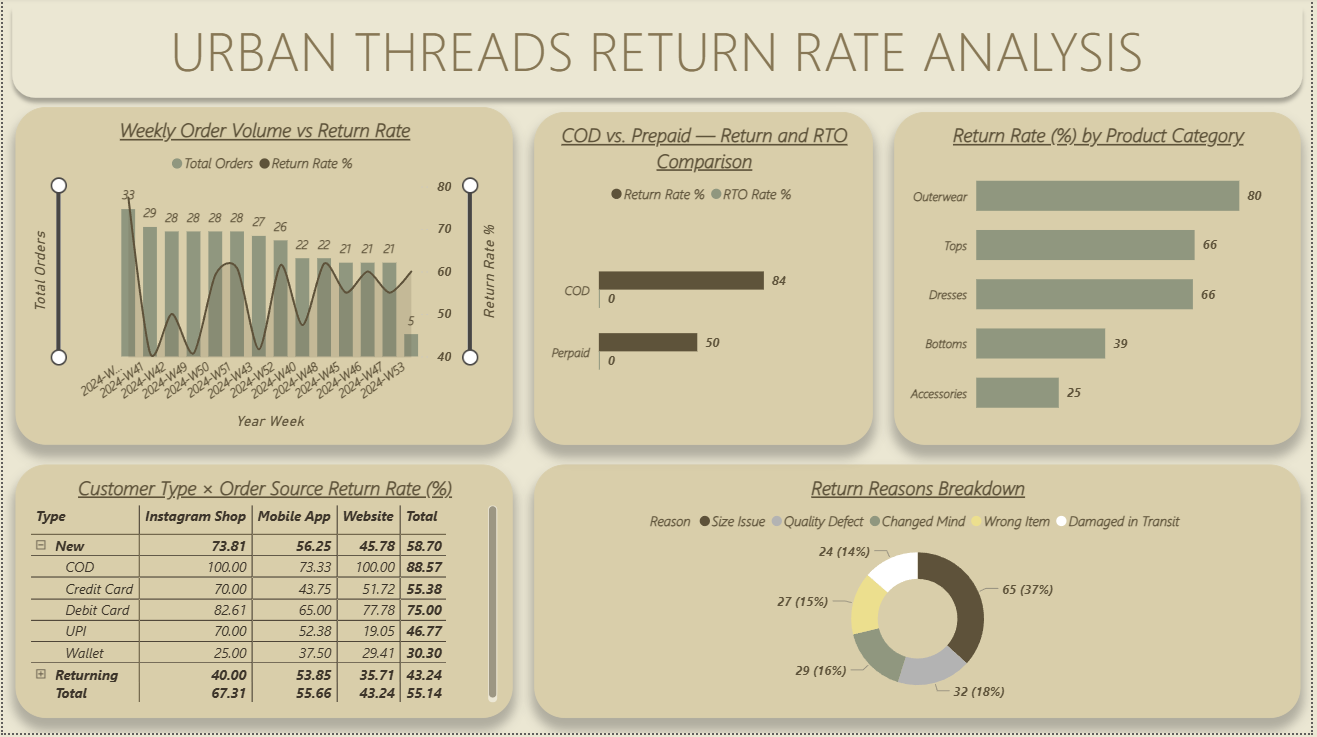

Layout of this report page (visuals, bound fields, positions):
{"tool":"powerbi","page":{"name":"Page 1","canvas":[1280,720],"ordinal":0},"visuals":[{"type":"shape","box":[0,0,1280.3,107.6],"z":0},{"type":"lineClusteredColumnComboChart","title":"Weekly Order Volume vs Return Rate","fields":{"Category":["UrbanThrreads_cleaned_data.Year Week"],"Y":["Mesure's Table.Total Orders"],"Y2":["Mesure's Table.Return Rate %"]},"box":[12.2,107.6,507.5,330.2],"z":1000},{"type":"barChart","title":"Return Rate (%) by Product Category","fields":{"Category":["UrbanThrreads_cleaned_data.Category"],"Y":["Mesure's Table.Return Rate %"]},"box":[871.9,112.5,397.4,325.3],"z":2000},{"type":"donutChart","title":"Return Reasons Breakdown","fields":{"Category":["UrbanThrreads_cleaned_data.Reason"],"Y":["CountNonNull(UrbanThrreads_cleaned_data.Order ID)"]},"box":[541.7,457.3,727.6,248.2],"z":3000},{"type":"pivotTable","title":"Customer Type × Order Source Return Rate (%)","fields":{"Values":["Mesure's Table.Return Rate %"],"Rows":["UrbanThrreads_cleaned_data.Type","UrbanThrreads_cleaned_data.Payment"],"Columns":["UrbanThrreads_cleaned_data.Source"]},"box":[12.2,457.3,507.5,248.2],"z":4000},{"type":"clusteredBarChart","title":"COD vs. Prepaid — Return and RTO Comparison","fields":{"Y":["Mesure's Table.Return Rate %","Mesure's Table.RTO Rate %"],"Category":["UrbanThrreads_cleaned_data.Payment Group"]},"box":[541.7,112.5,308.2,325.3],"z":5000}]}

Visuals, with their boxes in screenshot pixels (x1, y1, x2, y2), scaled from the page's 1280x720 canvas onto the 1317x737 screenshot:
shape: bbox(0, 0, 1316, 110)
"Weekly Order Volume vs Return Rate" lineClusteredColumnComboChart: bbox(13, 110, 535, 448)
"Return Rate (%) by Product Category" barChart: bbox(897, 115, 1306, 448)
"Return Reasons Breakdown" donutChart: bbox(557, 468, 1306, 722)
"Customer Type × Order Source Return Rate (%)" pivotTable: bbox(13, 468, 535, 722)
"COD vs. Prepaid — Return and RTO Comparison" clusteredBarChart: bbox(557, 115, 874, 448)
